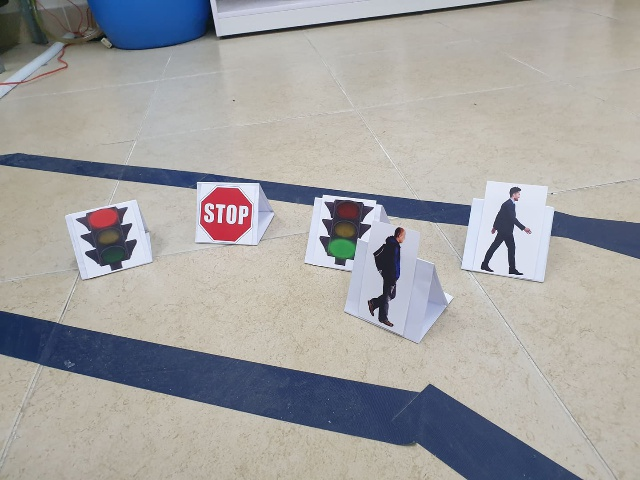Green: (318, 196, 370, 270)
Person: (474, 184, 539, 278), (370, 226, 408, 325)
Red: (77, 208, 144, 275)
Stop: (199, 182, 256, 245)
